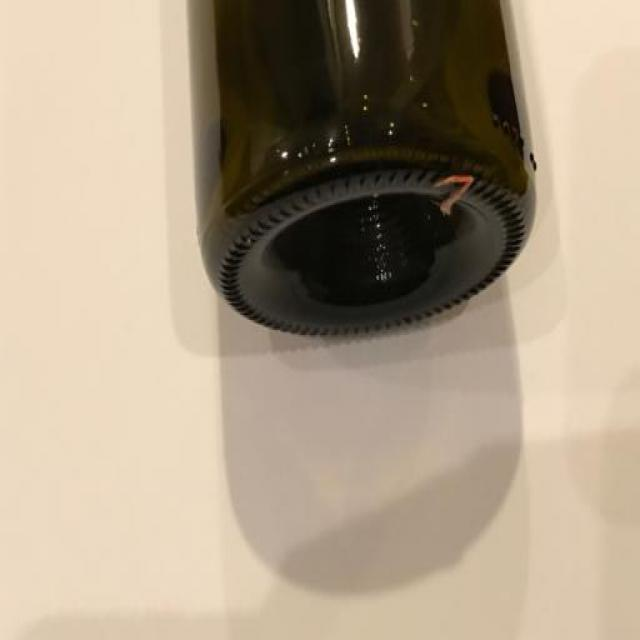glass: (140, 1, 586, 373)
